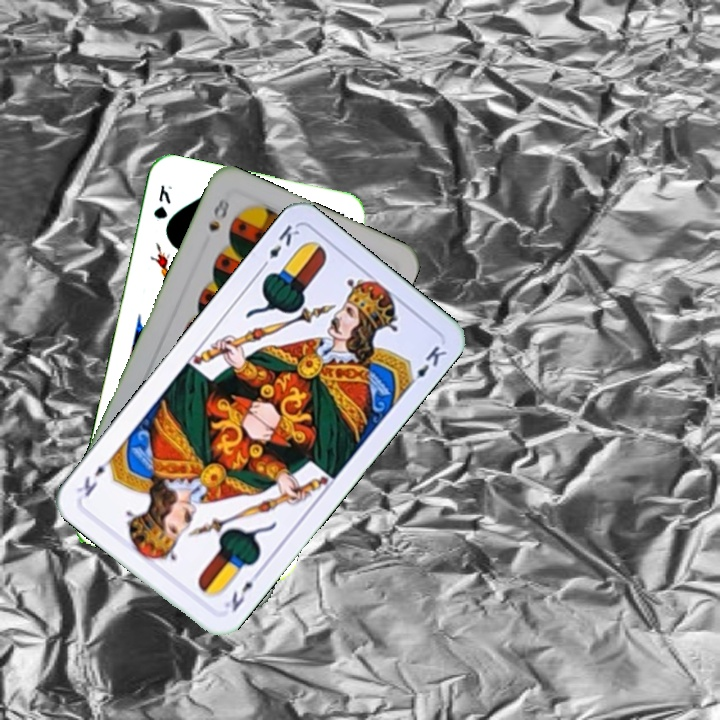EK: (256, 220, 302, 273), (220, 567, 264, 615)
GK: (149, 180, 174, 222)
S8: (204, 194, 232, 235)
